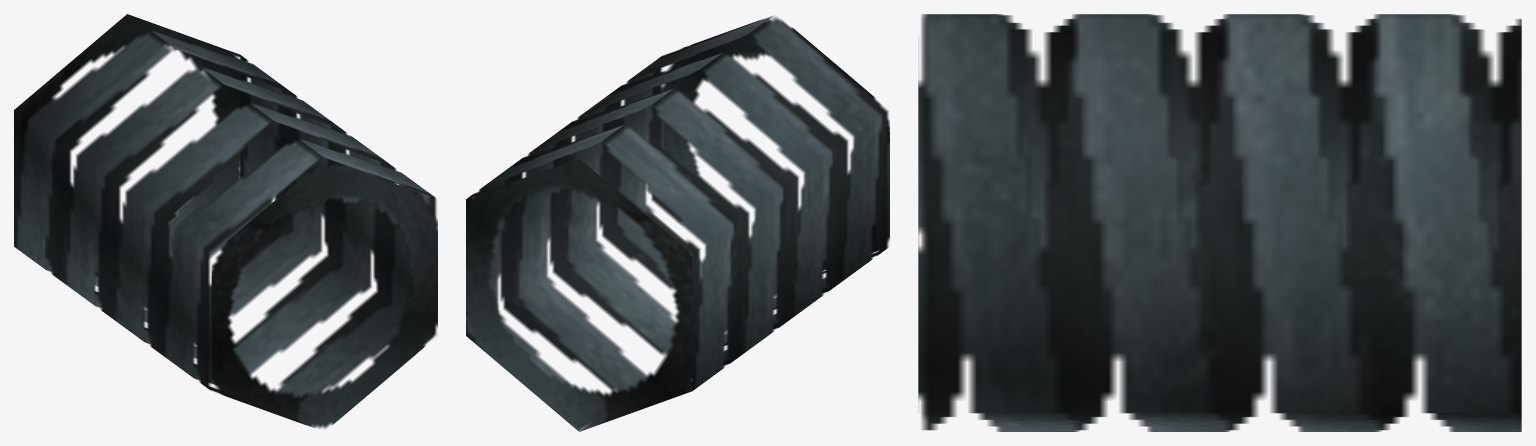
Rendered from spring.glb.
3 views of the same model, side by side, from view 1: azimuth 30°, elevation 25°; view 2: azimuth 150°, elevation 25°; view 3: azimuth 270°, elevation 25° (orthographic). The views are drawn at different scales.
Visible parts, largest first — view 1: Cylinder; view 2: Cylinder; view 3: Cylinder.
Boxes of the visible parts, x1,y1,x2,y2 form: Cylinder: (14,14,437,428); Cylinder: (466,16,889,431); Cylinder: (918,14,1521,431).
Size of the model in its own units: 0.3012 by 0.3478 by 0.455.
1 material, 1 textured.
